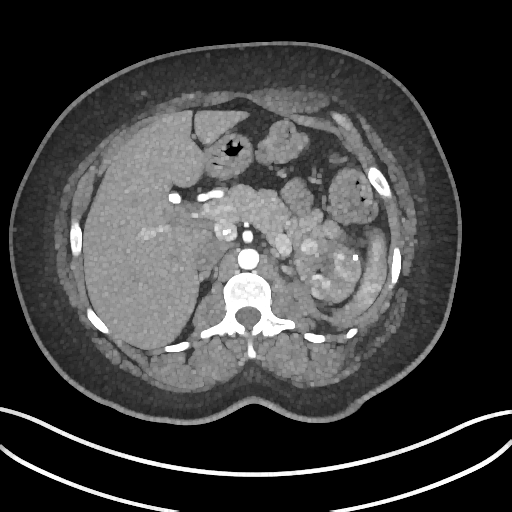Lesion: (299, 237, 318, 256)
